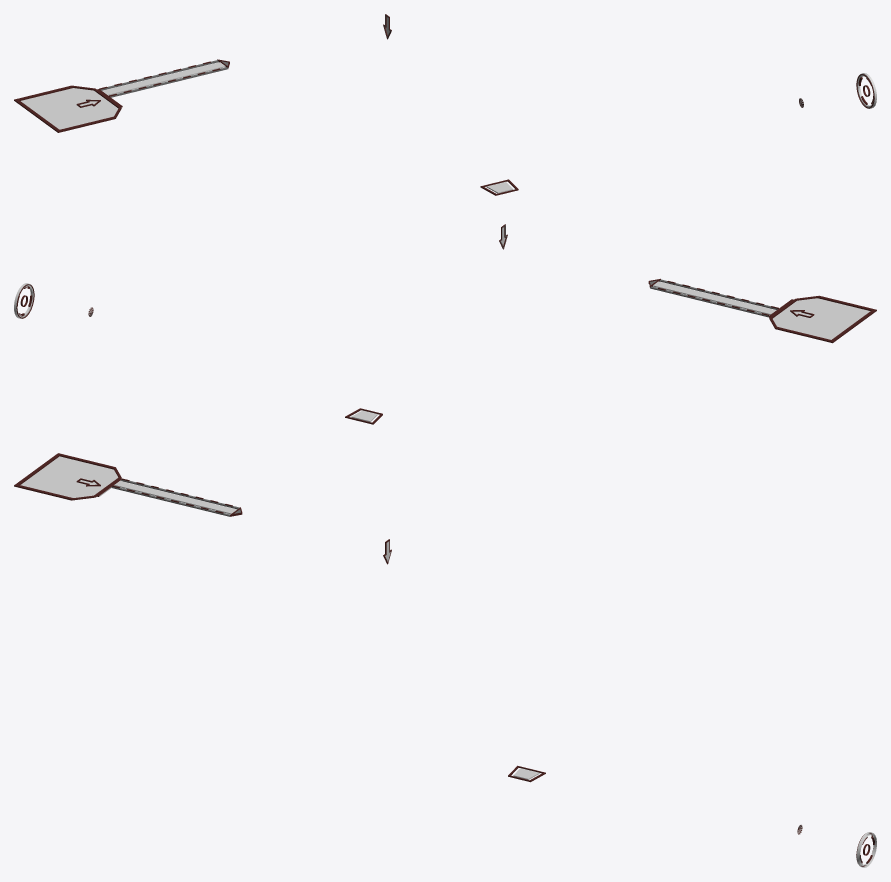
File: уровень 1 старый.FBX
3 views of the same model, one above another, from view 1: azimuth 30°, elevation 25°; view 2: azimuth 150°, elevation 25°; view 3: azimuth 330°, elevation 25° (orthographic).
Visible parts, largest first — view 1: площадка, Дорожка, Кольцо; view 2: площадка, Дорожка, Кольцо; view 3: площадка, Дорожка.
Part boxes in pixels (x1,y1,x2,y2): площадка: [14, 85, 122, 132]; Дорожка: [99, 59, 229, 97]; Кольцо: [856, 73, 876, 108]; площадка: [768, 295, 876, 343]; Дорожка: [648, 278, 778, 317]; Кольцо: [14, 283, 34, 318]; площадка: [14, 453, 121, 500]; Дорожка: [111, 478, 242, 516].
Bounding box in the file's own units: 7034 × 1717 × 647.
